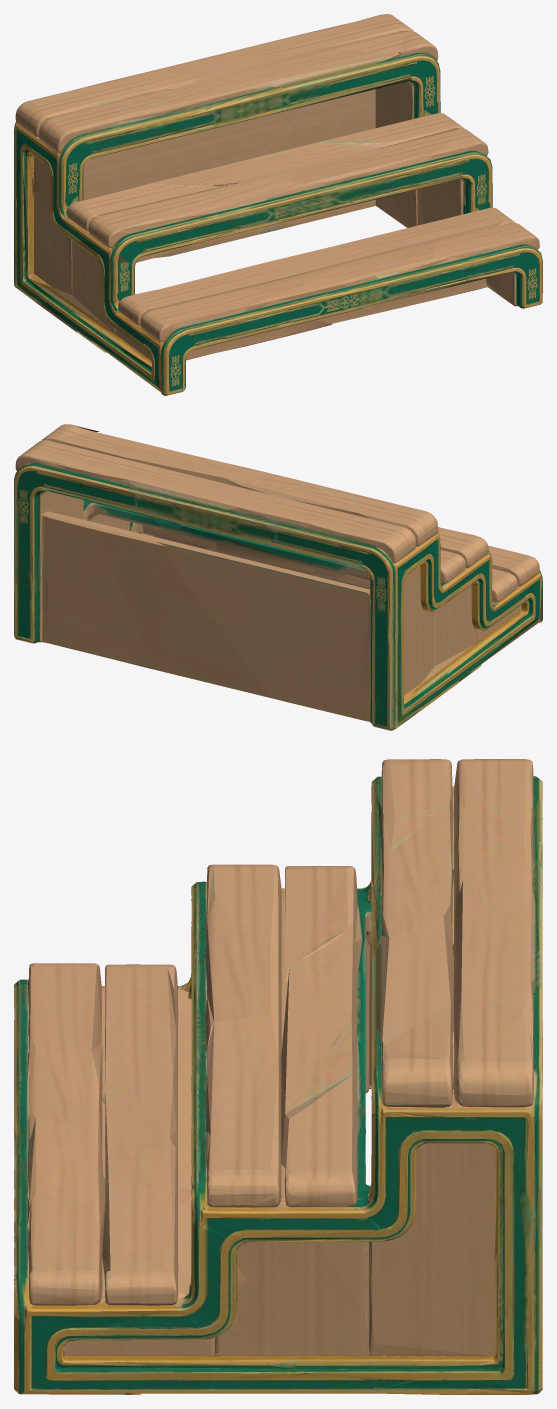
File: tribune.glb
3 renders of one model, top to bottom at view 1: azimuth 30°, elevation 25°; view 2: azimuth 150°, elevation 25°; view 3: azimuth 270°, elevation 25°, orthographic. The views are drawn at different scales.
Parts seen in each view (by area): view 1: output_unwrapped; view 2: output_unwrapped; view 3: output_unwrapped.
Boxes of the visible parts, left/top/right/bottom form: output_unwrapped: left=14, top=14, right=542, bottom=395; output_unwrapped: left=14, top=424, right=542, bottom=730; output_unwrapped: left=14, top=759, right=542, bottom=1394.
Bounding box in the file's own units: 2 × 0.9296 × 1.38.
1 material, 1 textured.
